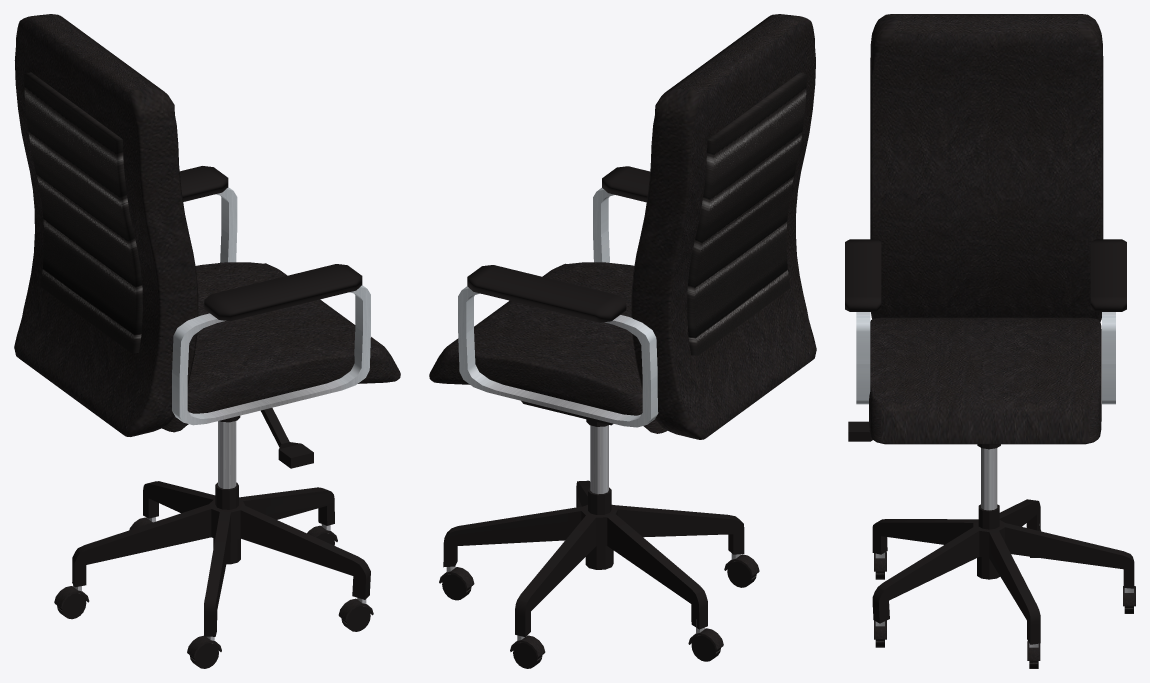
File: Office Chair.fbx
3 views of the same model, side by side, from view 1: azimuth 30°, elevation 25°; view 2: azimuth 150°, elevation 25°; view 3: azimuth 270°, elevation 25° (orthographic). The views are drawn at different scales.
Visible parts, largest first — view 1: polySurface103; view 2: polySurface103; view 3: polySurface103.
Boxes of the visible parts, x1,y1,x2,y2 form: polySurface103: (14, 14, 400, 668); polySurface103: (429, 14, 816, 668); polySurface103: (845, 14, 1135, 668).
Bounding box in the file's own units: 68.34 × 132 × 64.66.
